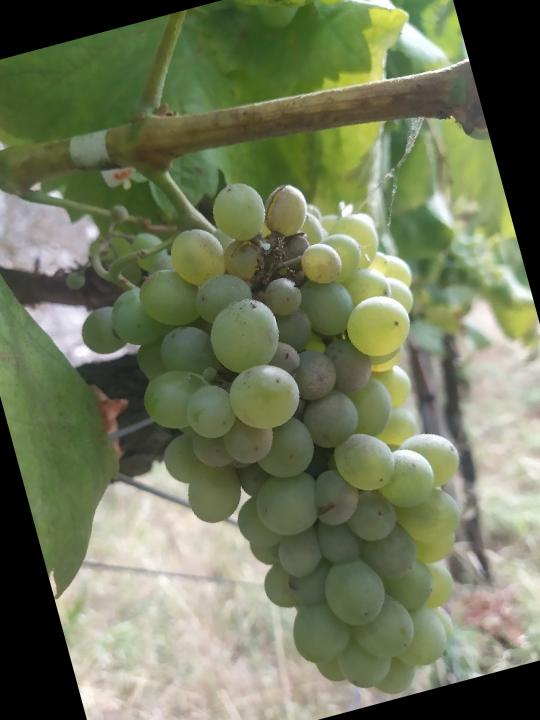grape: (49, 134, 524, 720)
